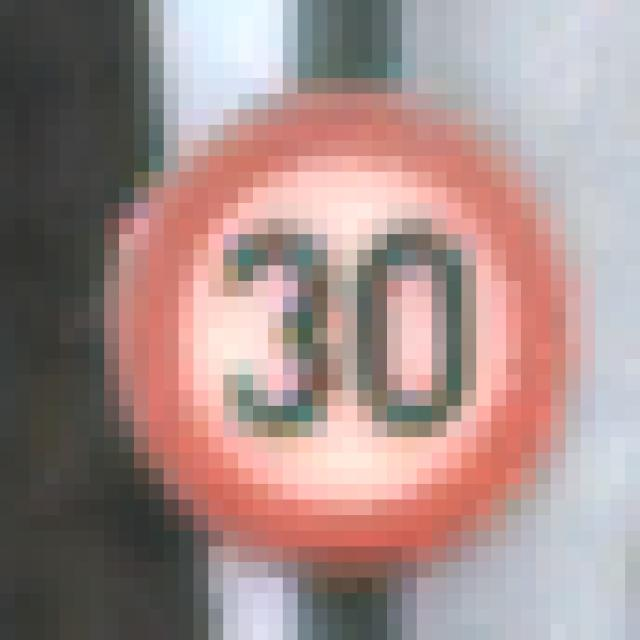Speed Limit -30-: (82, 70, 558, 539)
